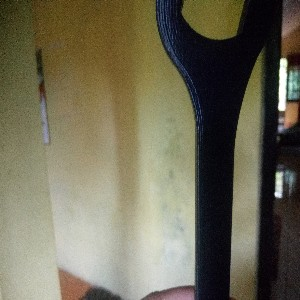spanner: (155, 1, 270, 300)
